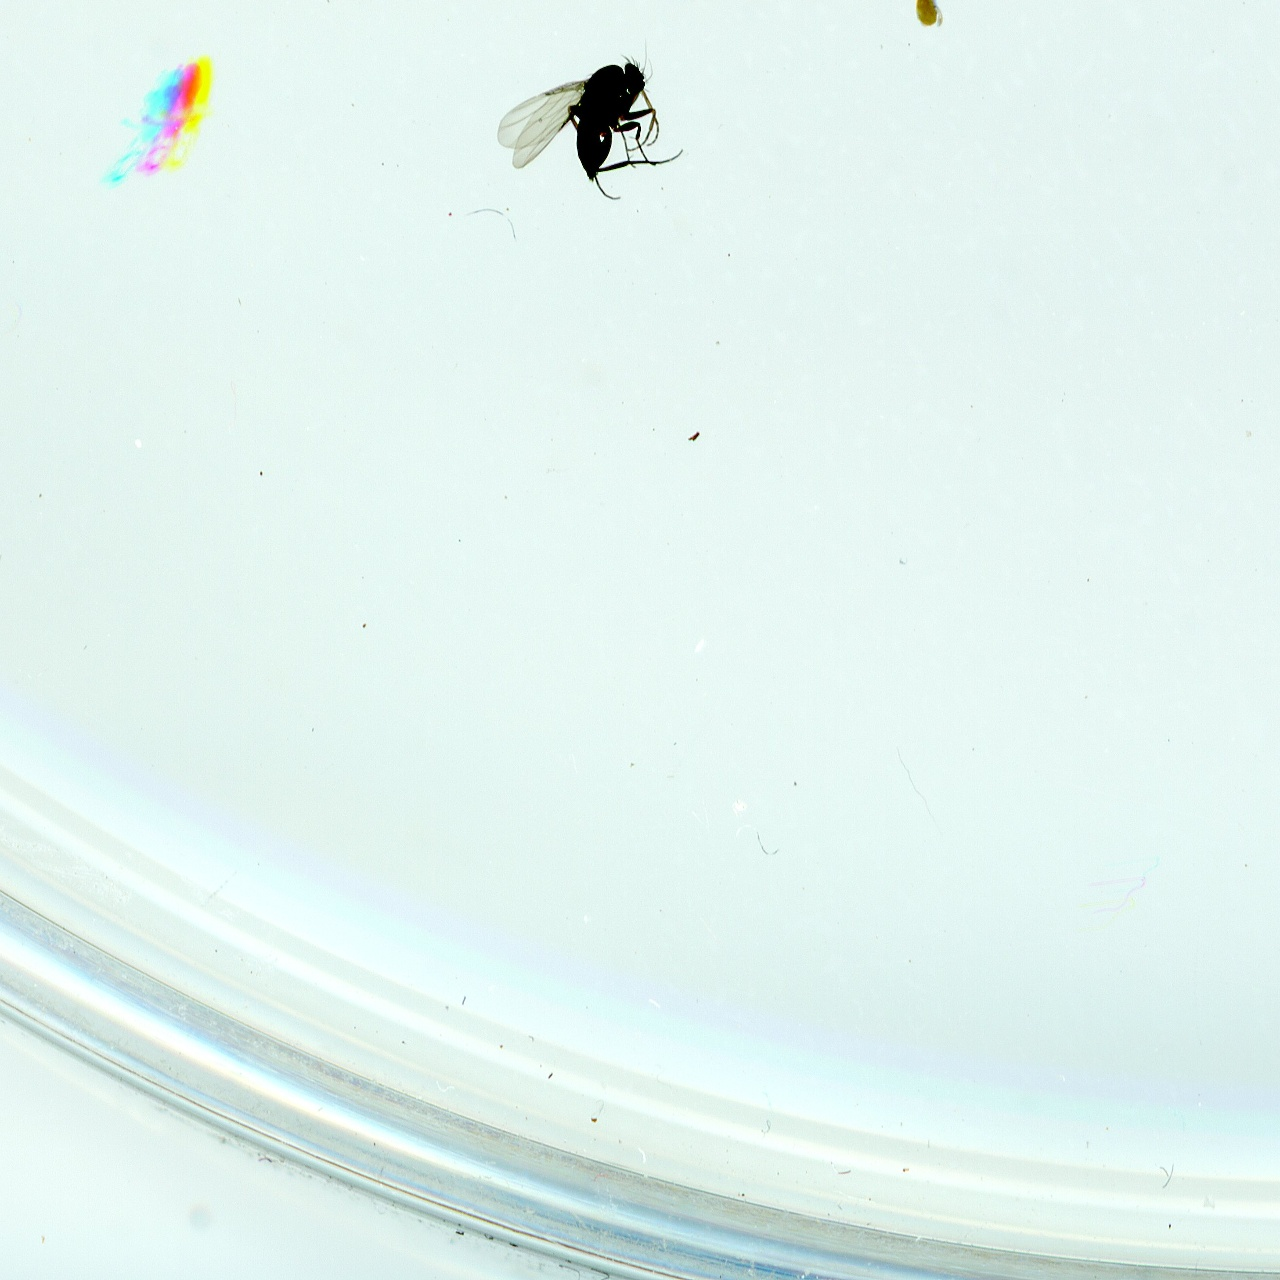arthropod: (463, 45, 684, 200), (134, 48, 212, 182), (896, 0, 951, 36)
